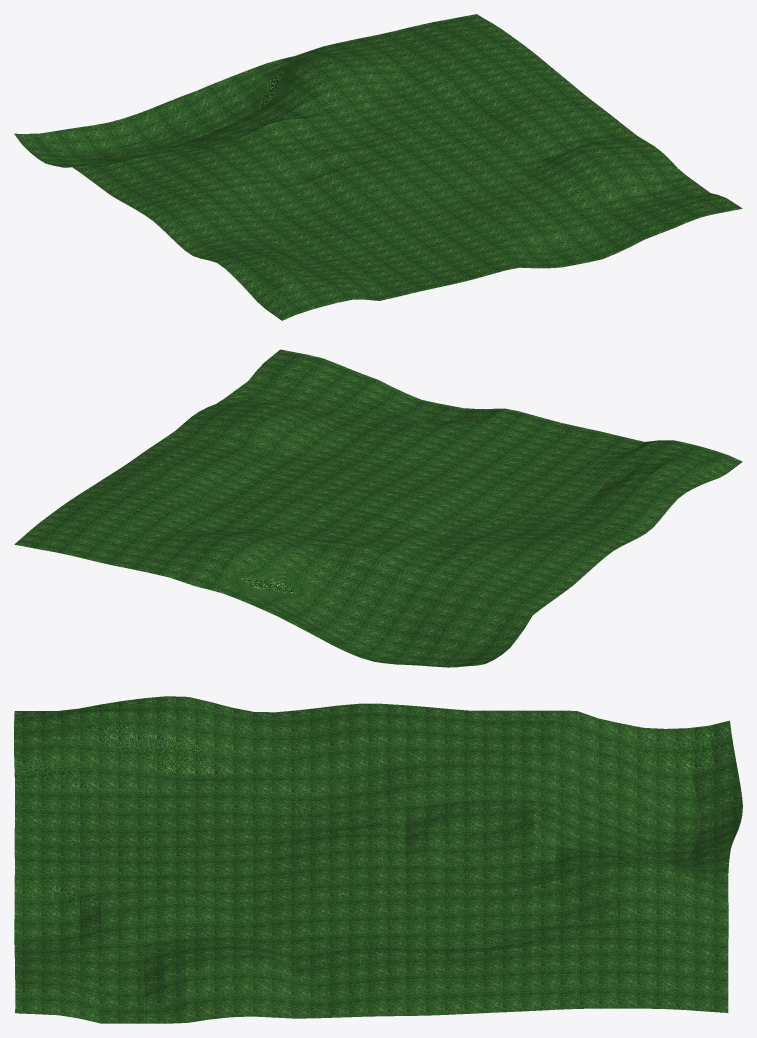
File: HouseTerrain.fbx
The picture shows the model from 3 angles, top to bottom: view 1: azimuth 30°, elevation 25°; view 2: azimuth 150°, elevation 25°; view 3: azimuth 270°, elevation 25°; orthographic projection. The views are drawn at different scales.
Visible parts, largest first — view 1: Terrain; view 2: Terrain; view 3: Terrain.
Part boxes in pixels (x1,y1,x2,y2): Terrain: (14, 14, 742, 320); Terrain: (14, 349, 742, 667); Terrain: (14, 696, 742, 1023).
Size of the model in its own units: 22574 by 2514 by 22927.
